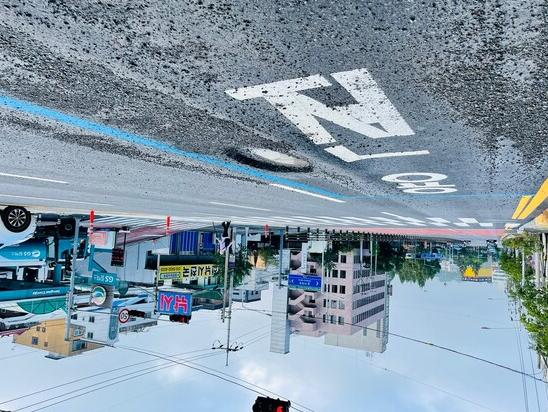pothole: (215, 134, 326, 197)
